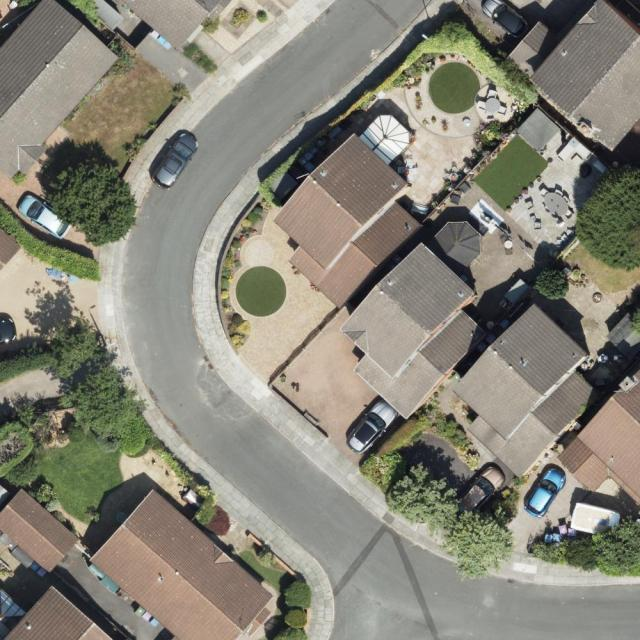roof: (340, 221, 486, 418), (275, 114, 423, 308), (91, 487, 274, 640), (453, 302, 601, 478), (0, 0, 119, 178), (506, 0, 640, 152), (558, 367, 640, 508), (0, 488, 79, 572), (0, 585, 114, 640), (120, 0, 222, 51)
